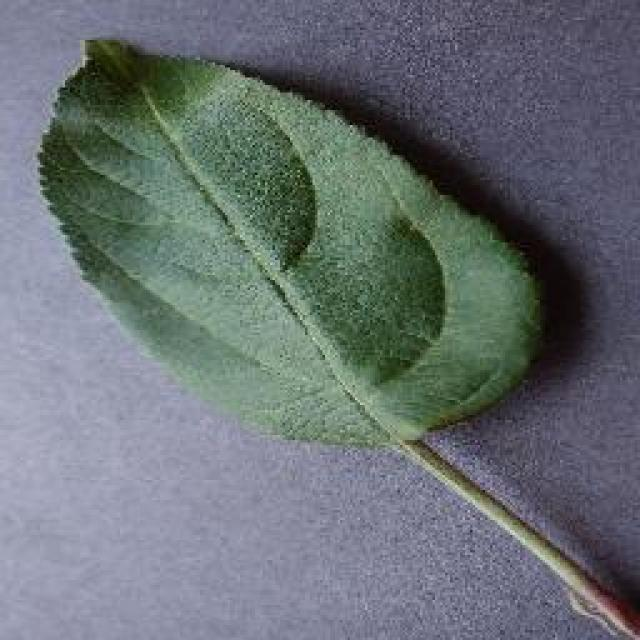apple healthy: (35, 32, 547, 452)
